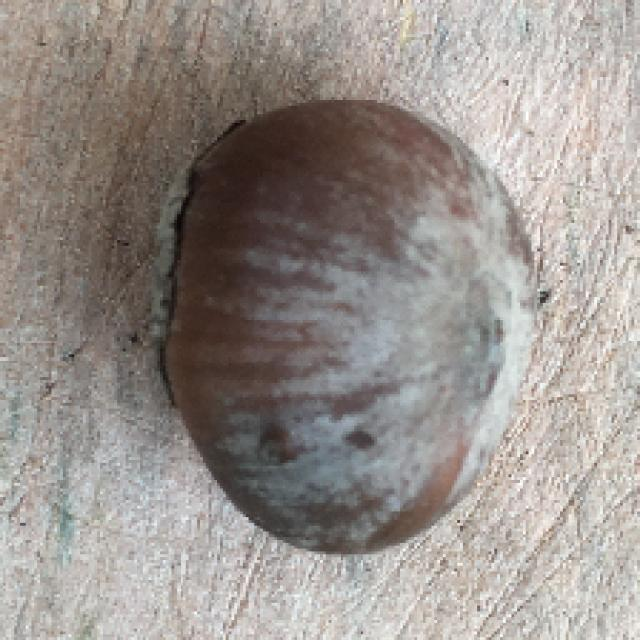damagedHazelnut: (148, 88, 540, 561)
